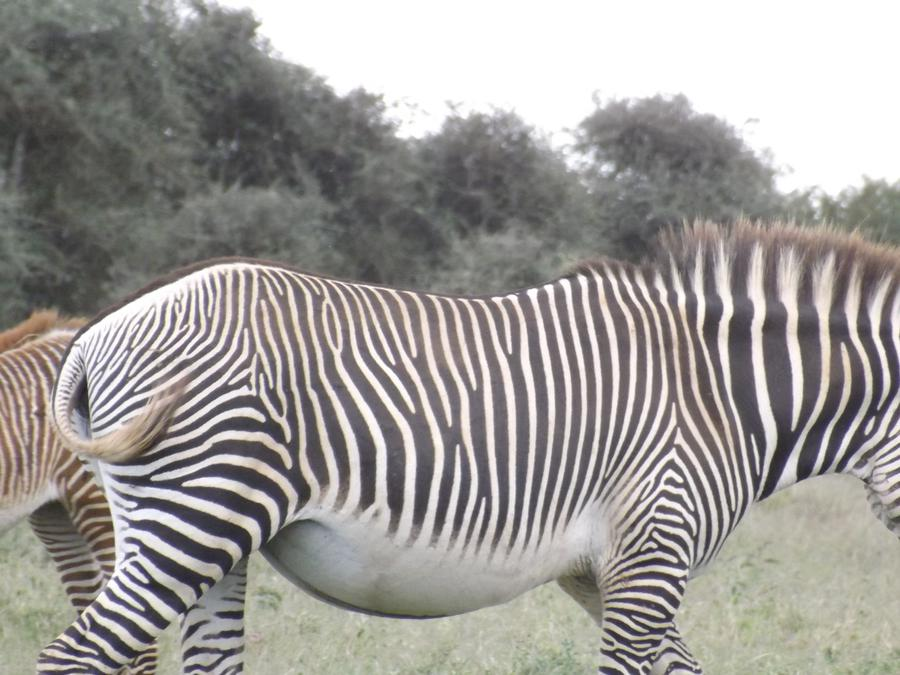zebra_grevys: (76, 252, 711, 580)
